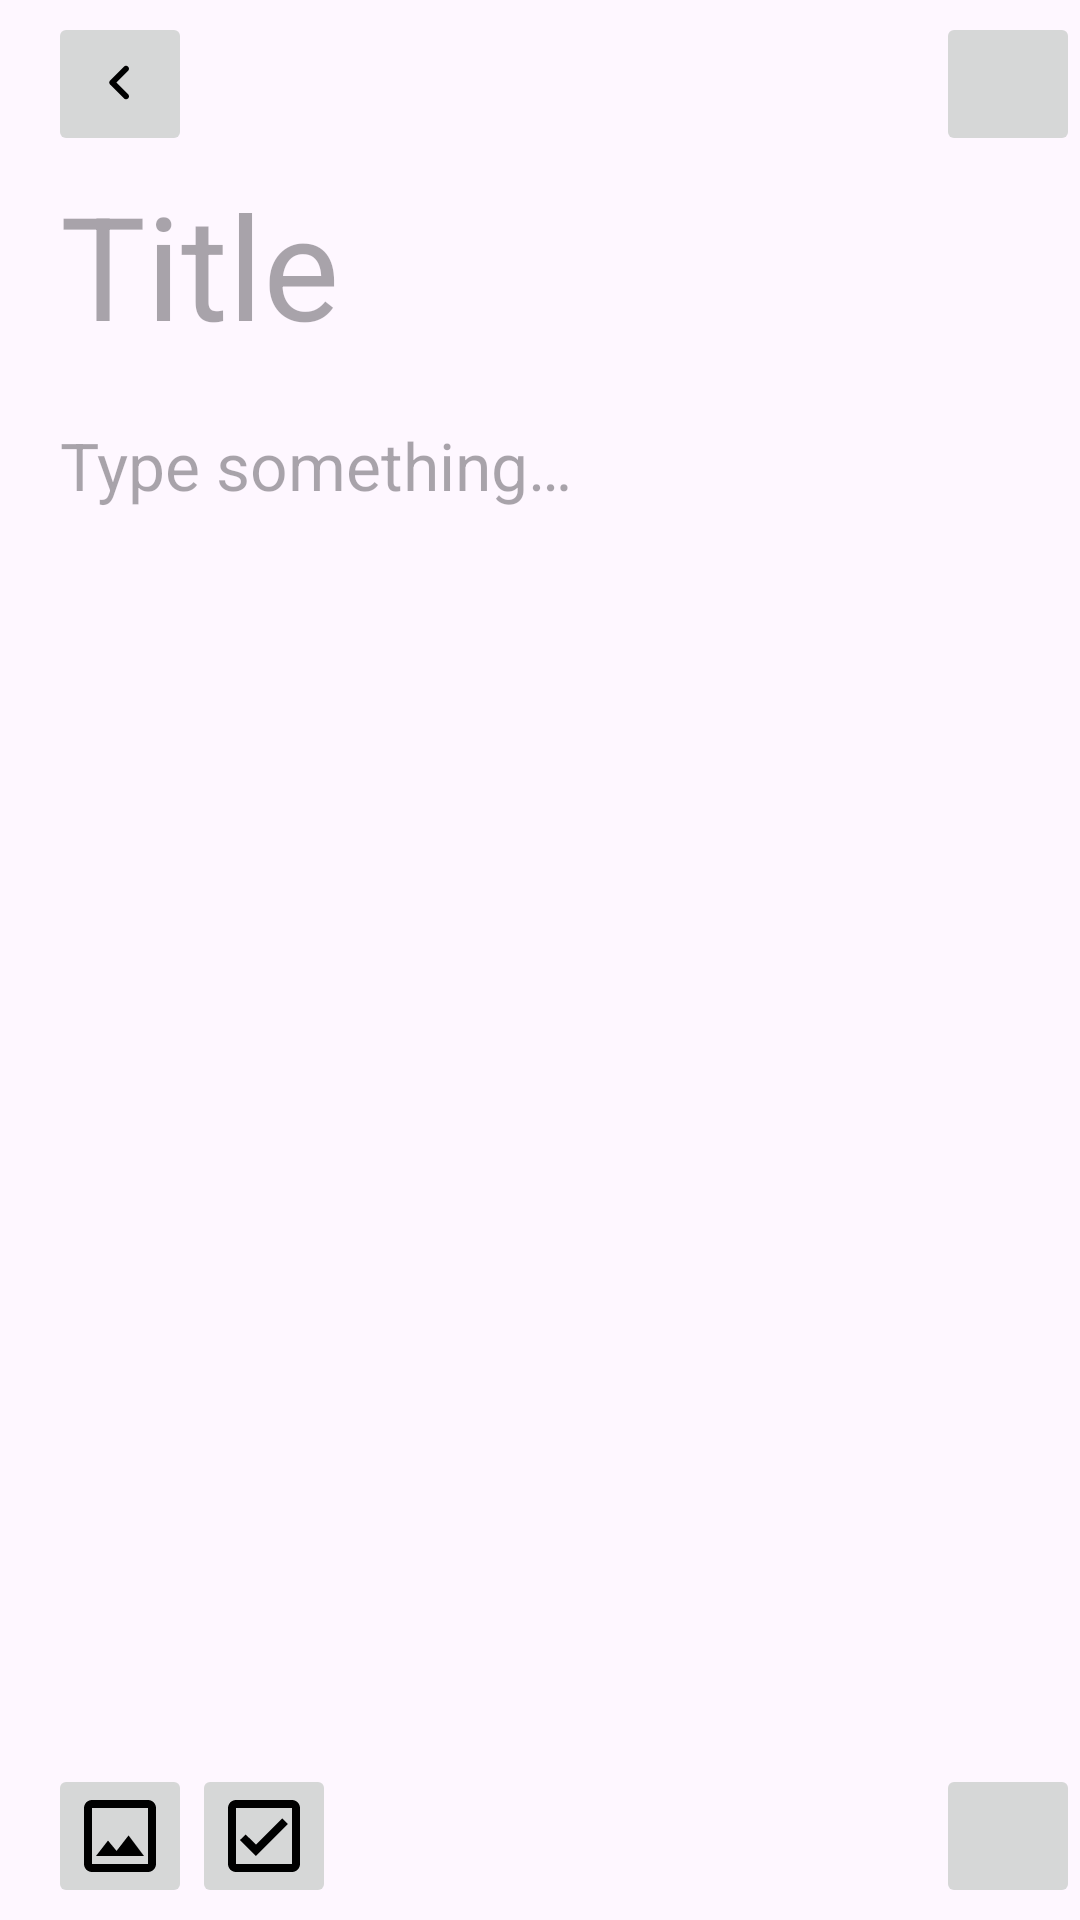

Point at icon controls on the screen. Image size 1080x1920, points as (x=x, y=y).
add checkbox: (x=264, y=1836)
add image to note: (x=120, y=1836)
To Back: (x=120, y=84)
